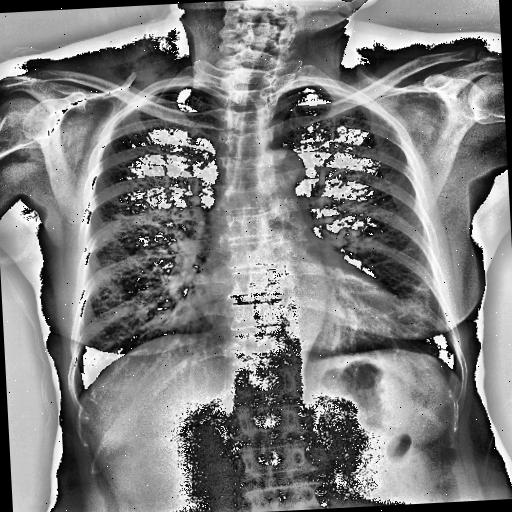0- Aortic enlargement: (270, 148, 303, 186)
3- Cardiomegaly: (190, 256, 406, 356), (194, 260, 402, 359), (192, 275, 410, 361)
